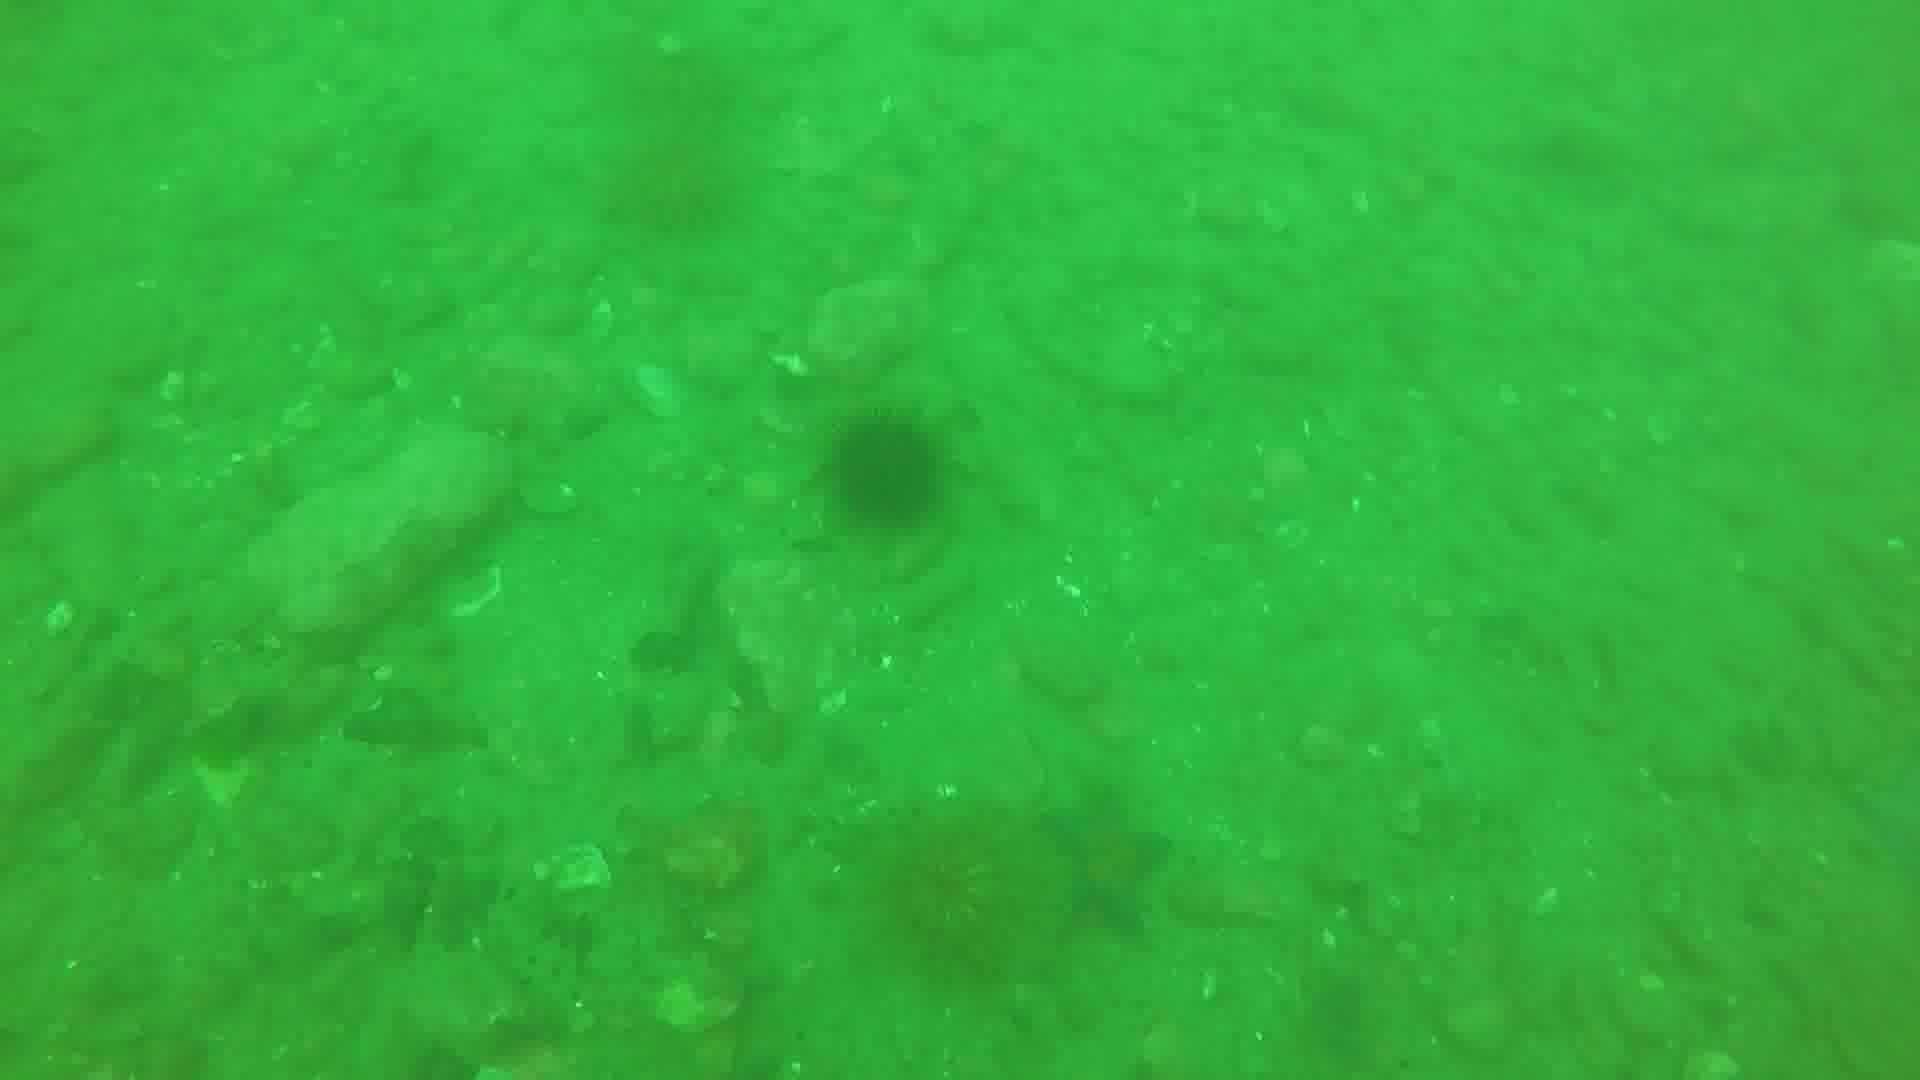echinus: (591, 28, 753, 131), (600, 131, 745, 244), (822, 410, 949, 534)
scallop: (531, 839, 615, 903)
starfish: (1033, 781, 1176, 944)
